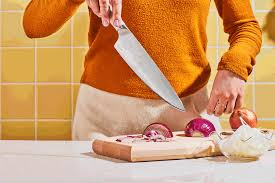knife: (86, 1, 191, 114)
